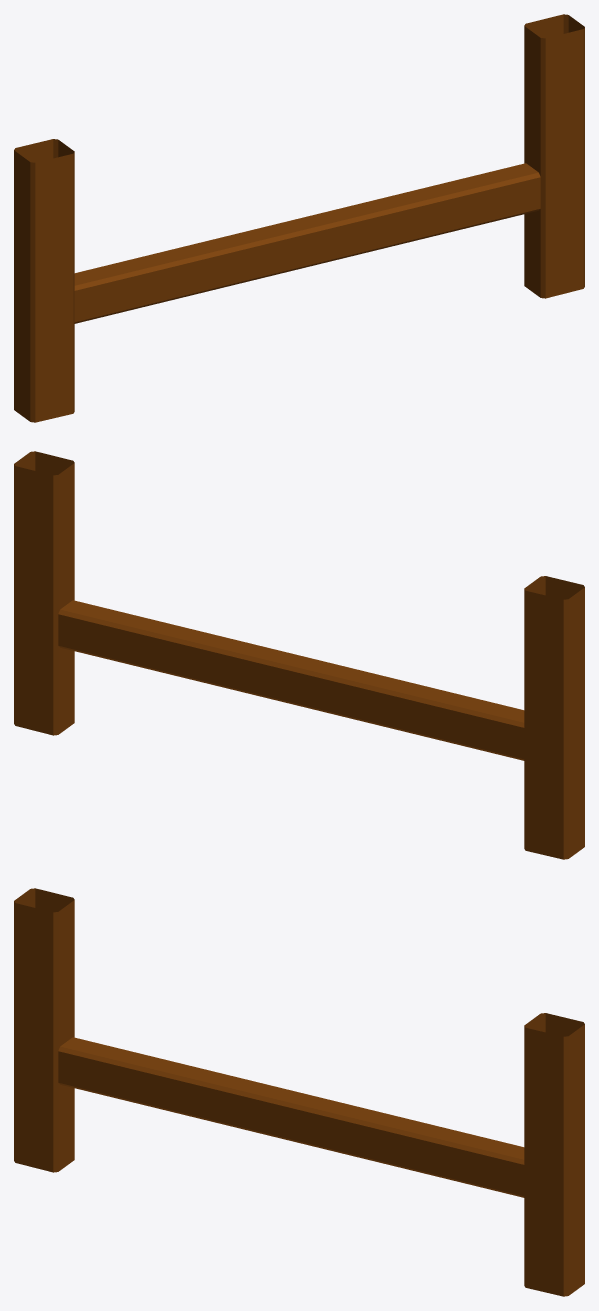
Rendered from Sign@Legs.fbx.
3 renders of one model, top to bottom at view 1: azimuth 30°, elevation 25°; view 2: azimuth 150°, elevation 25°; view 3: azimuth 330°, elevation 25°, orthographic.
Visible parts, largest first — view 1: sign_rlon_optim01_v02_Cube_003; view 2: sign_rlon_optim01_v02_Cube_003; view 3: sign_rlon_optim01_v02_Cube_003.
Part boxes in pixels (x1=…): sign_rlon_optim01_v02_Cube_003: x1=14, y1=14, x2=584, y2=422; sign_rlon_optim01_v02_Cube_003: x1=14, y1=451, x2=584, y2=859; sign_rlon_optim01_v02_Cube_003: x1=14, y1=888, x2=584, y2=1296.
Size of the model in its own units: 350 by 157 by 21.97.
